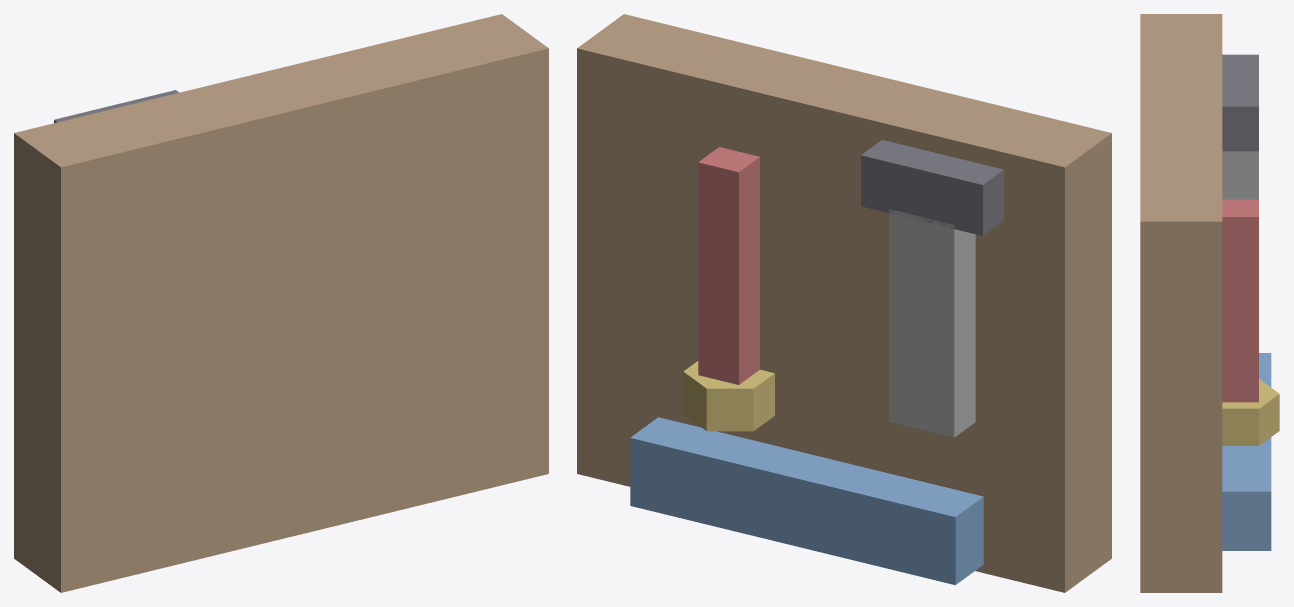
File: kid_ferramentas.glb
The picture shows the model from 3 angles, left to right: view 1: azimuth 30°, elevation 25°; view 2: azimuth 150°, elevation 25°; view 3: azimuth 270°, elevation 25°; orthographic projection. The views are drawn at different scales.
Parts seen in each view (by area): view 1: KID_FERRAMENTAS_v01; view 2: KID_FERRAMENTAS_v01; view 3: KID_FERRAMENTAS_v01.
Boxes of the visible parts, <box> form: KID_FERRAMENTAS_v01: <box>14,14,548,592</box>; KID_FERRAMENTAS_v01: <box>577,14,1111,592</box>; KID_FERRAMENTAS_v01: <box>1140,14,1279,592</box>.
Size of the model in its own units: 0.6 by 0.5 by 0.17.
